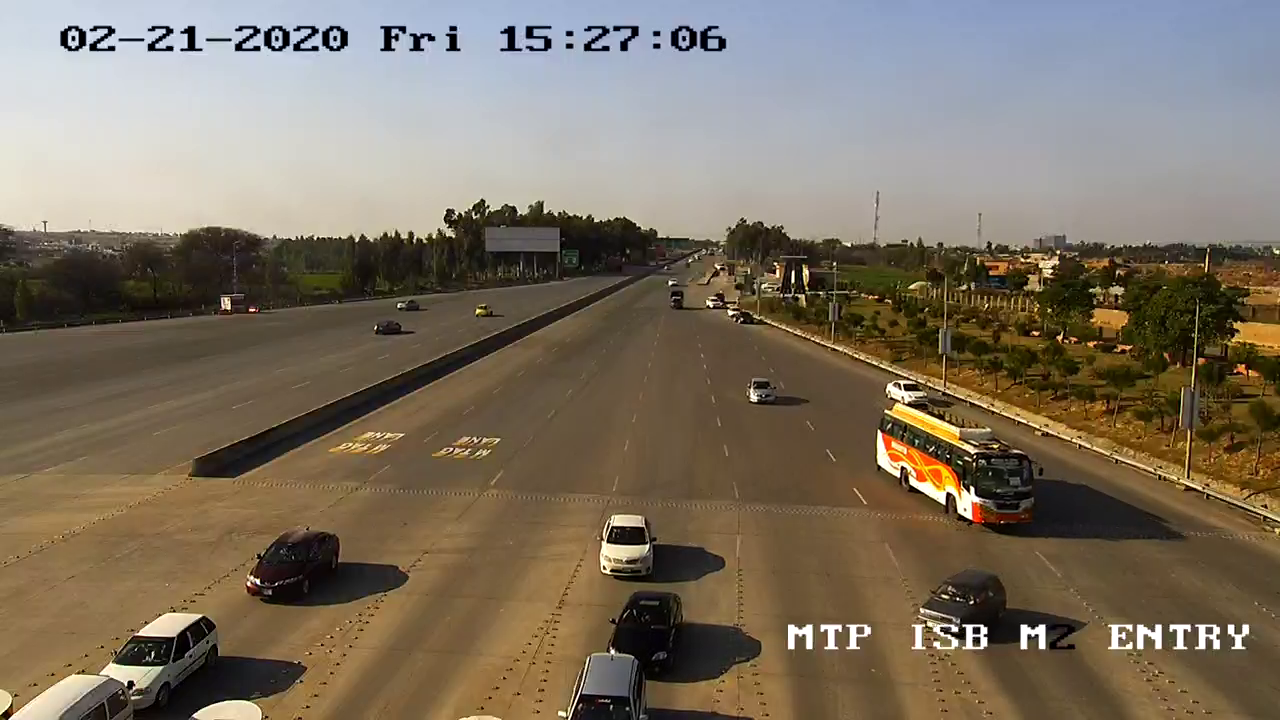f1: (239, 523, 344, 606), (592, 505, 661, 584)
f4: (871, 398, 1049, 540)
